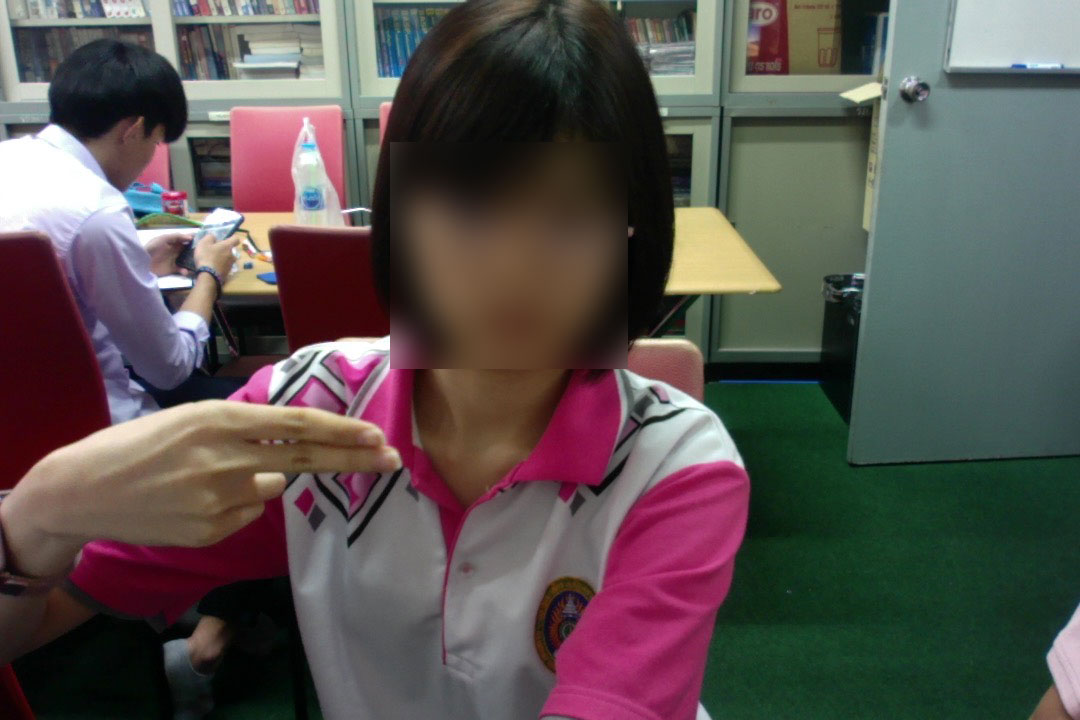hor: (10, 395, 408, 552)
